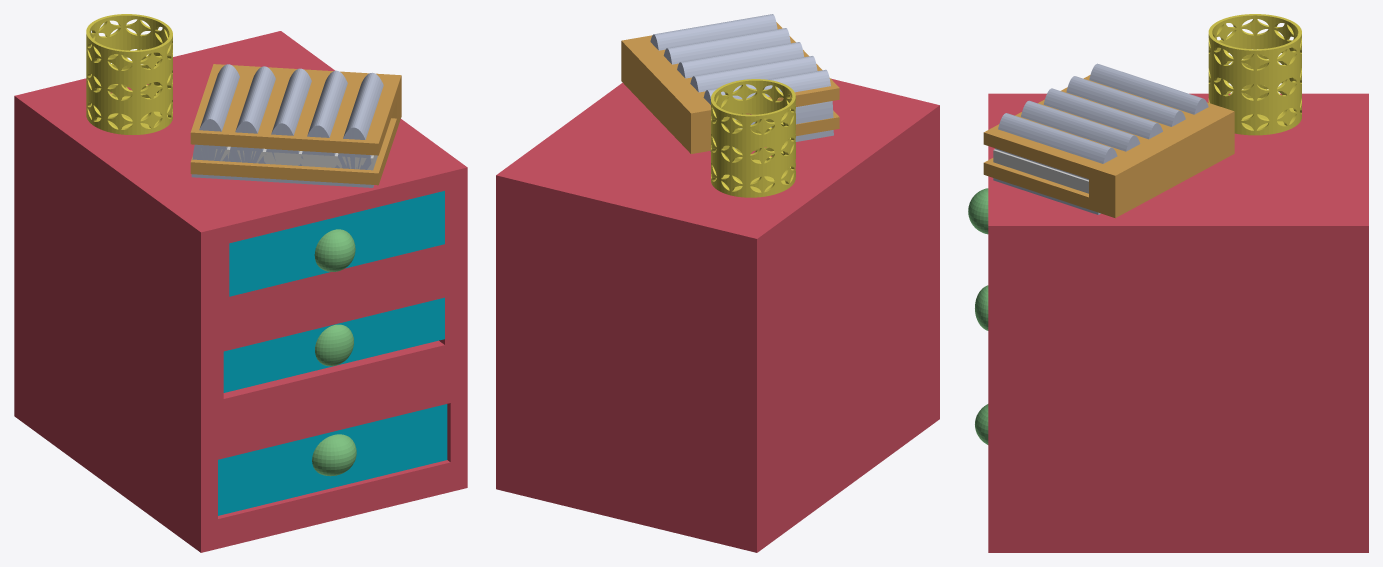
Rendered from project148.glb.
The picture shows the model from 3 angles, left to right: view 1: azimuth 30°, elevation 25°; view 2: azimuth 150°, elevation 25°; view 3: azimuth 270°, elevation 25°; orthographic projection. The views are drawn at different scales.
Parts seen in each view (by area): view 1: Mesh_Mesh_head_geo.001_lambert2SG.001; view 2: Mesh_Mesh_head_geo.001_lambert2SG.001; view 3: Mesh_Mesh_head_geo.001_lambert2SG.001.
Boxes of the visible parts, x1=… form: Mesh_Mesh_head_geo.001_lambert2SG.001: x1=14, y1=14, x2=467, y2=552; Mesh_Mesh_head_geo.001_lambert2SG.001: x1=496, y1=14, x2=939, y2=552; Mesh_Mesh_head_geo.001_lambert2SG.001: x1=968, y1=14, x2=1368, y2=552.
Bounding box in the file's own units: 47 × 69 × 60.
